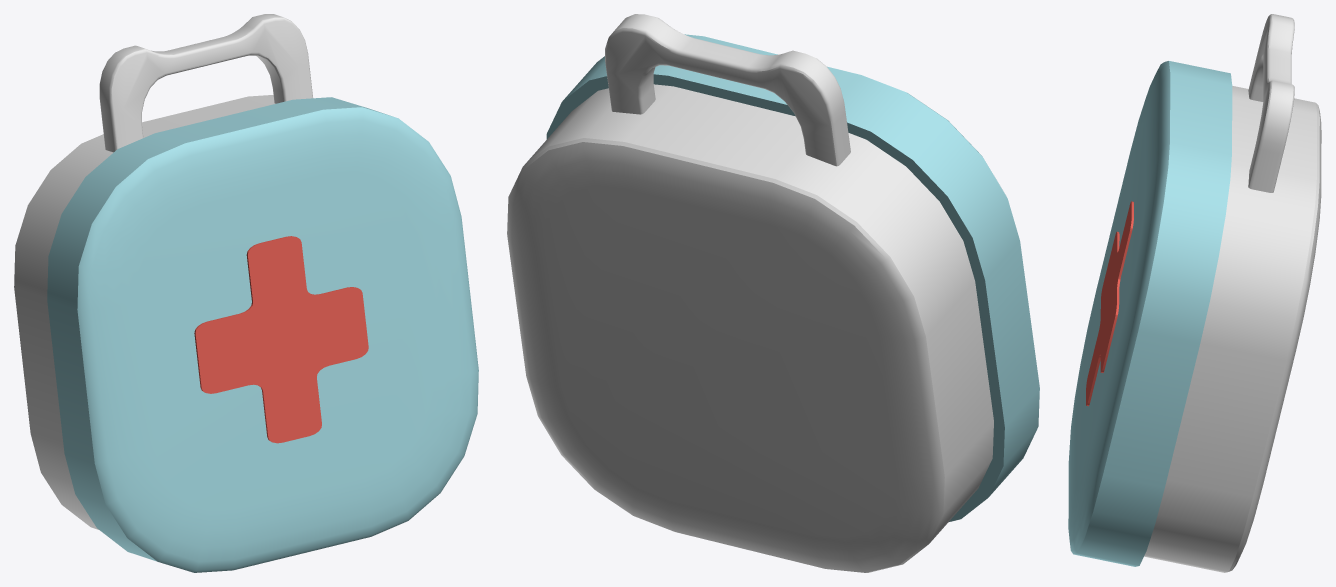
File: Healthpack.fbx
3 views of the same model, side by side, from view 1: azimuth 30°, elevation 25°; view 2: azimuth 150°, elevation 25°; view 3: azimuth 270°, elevation 25° (orthographic). The views are drawn at different scales.
Parts seen in each view (by area): view 1: Cube.003; view 2: Cube.003; view 3: Cube.003.
Part boxes in pixels (x1,y1,x2,y2): Cube.003: [14, 14, 478, 572]; Cube.003: [507, 14, 1039, 572]; Cube.003: [1068, 14, 1321, 572].
Bounding box in the file's own units: 145 × 169 × 81.11.
